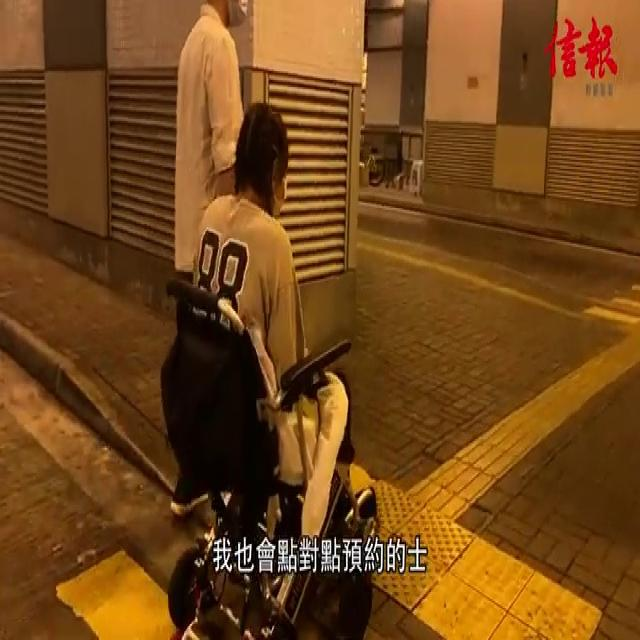wheelchairs: (158, 269, 385, 640)
